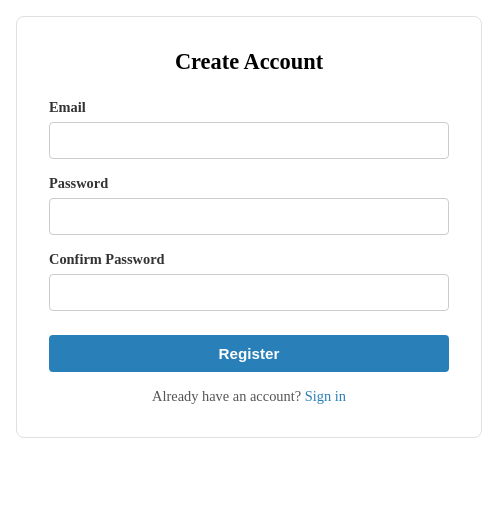
Test: RegisterPage › shows error when passwords do not match
In the field labelled "Email": (249, 140) [49,122,449,159], type "new@example.com"
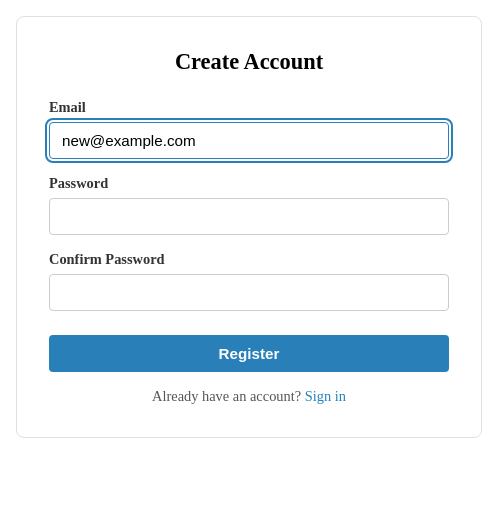
In the password field labelled "Password": (249, 216) [49,198,449,235], type "password123"
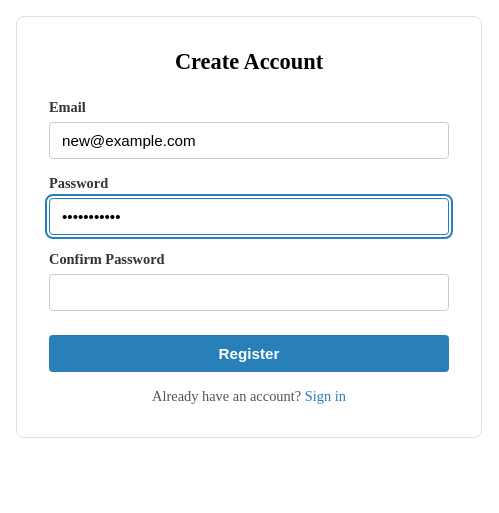
In the password field labelled "Confirm Password": (249, 292) [49,274,449,311], type "different"
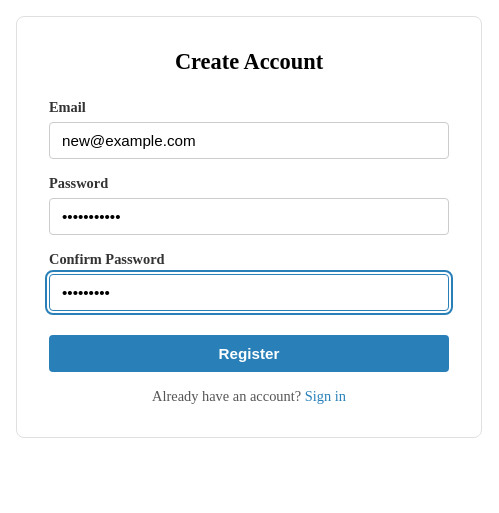
Click the button "Register": (249, 354) [49,335,449,372]
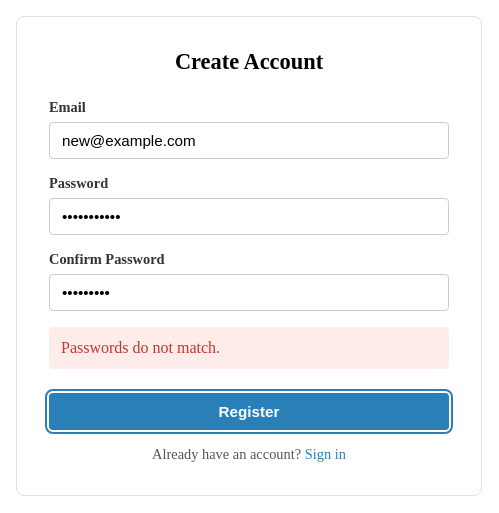
Result: the message reads "Passwords do not match." at [61,339,220,356]
